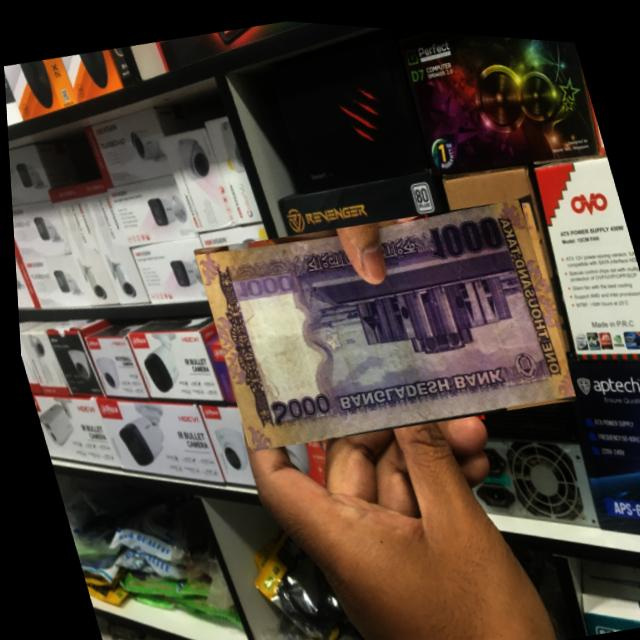Taka: (187, 171, 576, 467)
